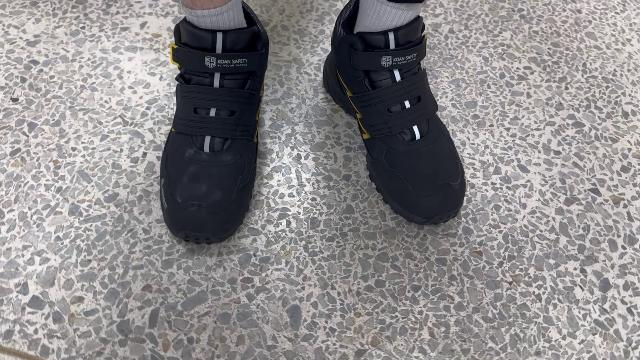shoe_worn: (320, 4, 481, 225), (159, 8, 268, 244)
